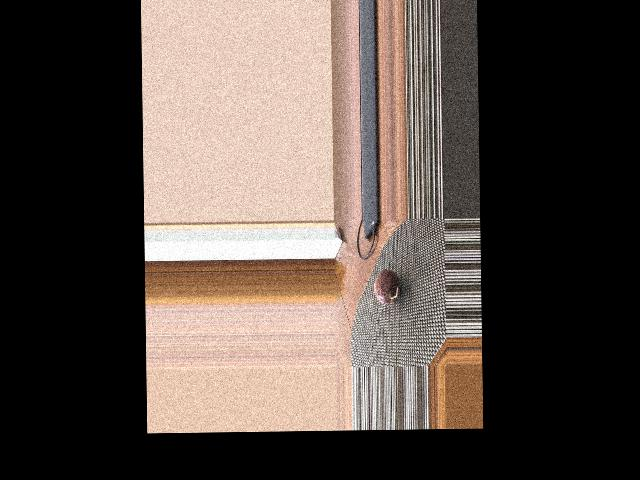beet: (374, 268, 400, 303)
